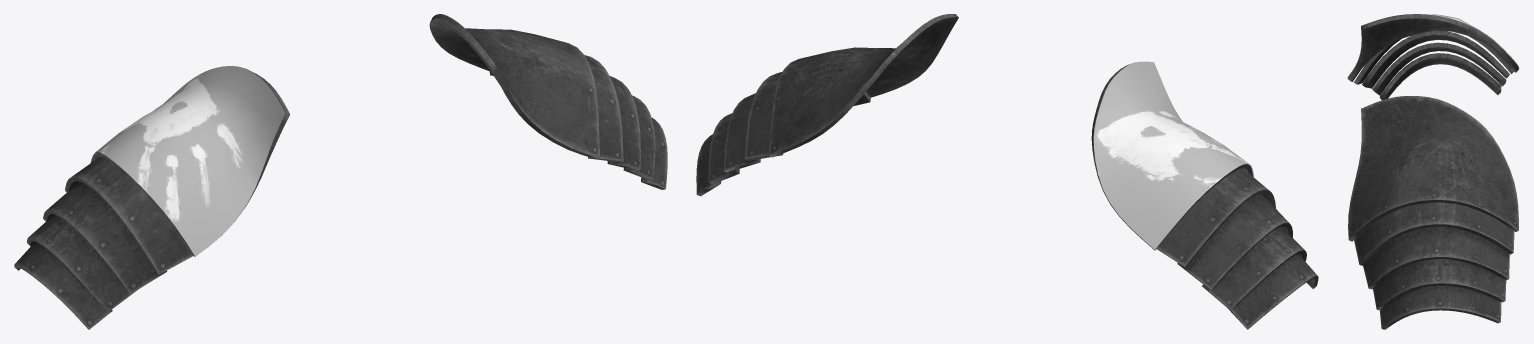
Rendered from sk_uruk_hai_pauldron_heavy_a3.fbx.
3 renders of one model, left to right at view 1: azimuth 30°, elevation 25°; view 2: azimuth 150°, elevation 25°; view 3: azimuth 270°, elevation 25°, orthographic. The views are drawn at different scales.
Visible parts, largest first — view 1: sk_uruk_hai_pauldron_heavy_a3.0, sk_uruk_hai_pauldron_heavy_a3.1; view 2: sk_uruk_hai_pauldron_heavy_a3.0, sk_uruk_hai_pauldron_heavy_a3.1; view 3: sk_uruk_hai_pauldron_heavy_a3.0, sk_uruk_hai_pauldron_heavy_a3.1.
Boxes of the visible parts, x1,y1,x2,y2 form: sk_uruk_hai_pauldron_heavy_a3.0: [14, 14, 667, 329]; sk_uruk_hai_pauldron_heavy_a3.1: [90, 66, 285, 256]; sk_uruk_hai_pauldron_heavy_a3.0: [696, 14, 1318, 329]; sk_uruk_hai_pauldron_heavy_a3.1: [1094, 61, 1253, 249]; sk_uruk_hai_pauldron_heavy_a3.0: [1348, 14, 1518, 329]; sk_uruk_hai_pauldron_heavy_a3.1: [1347, 14, 1519, 78].
Bounding box in the file's own units: 0.808 × 0.2364 × 0.2446.
Materials: 2 (2 with a texture image).
